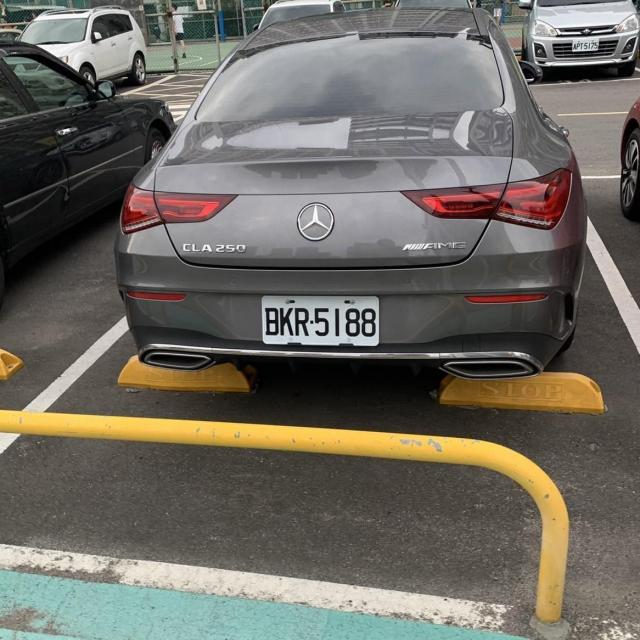W: (260, 288, 383, 354)
